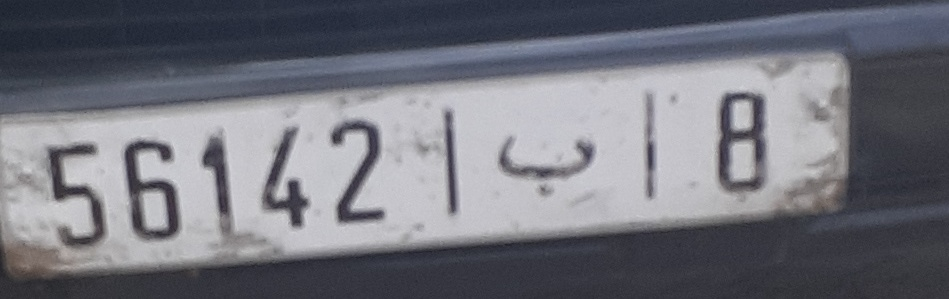1: (192, 115, 245, 245)
2: (322, 108, 391, 233)
4: (255, 112, 319, 239)
5: (42, 131, 115, 254)
6: (119, 131, 179, 246)
8: (705, 85, 781, 198)
b: (484, 110, 616, 203)
